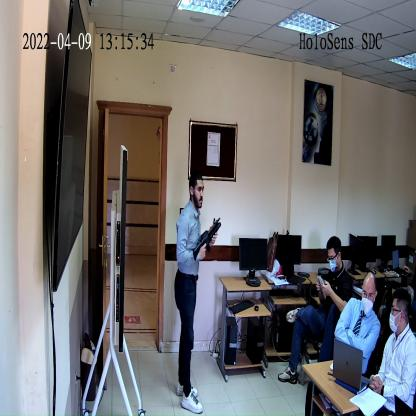handgun: (192, 217, 220, 262)
